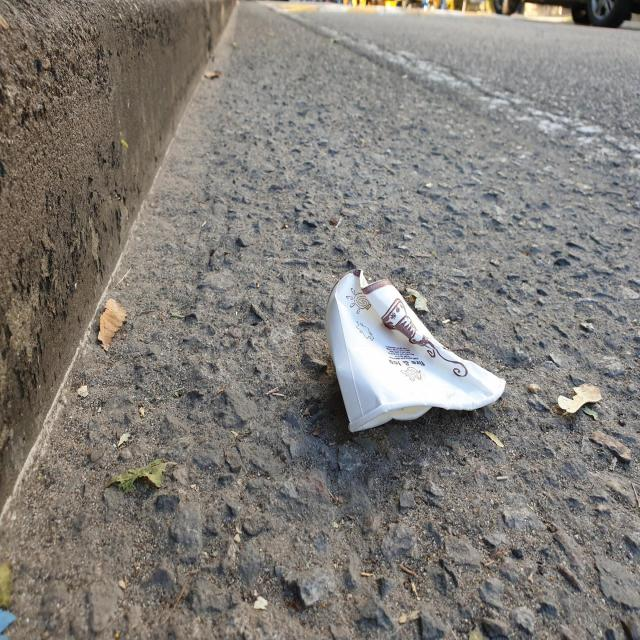paperpack: (326, 269, 506, 432)
